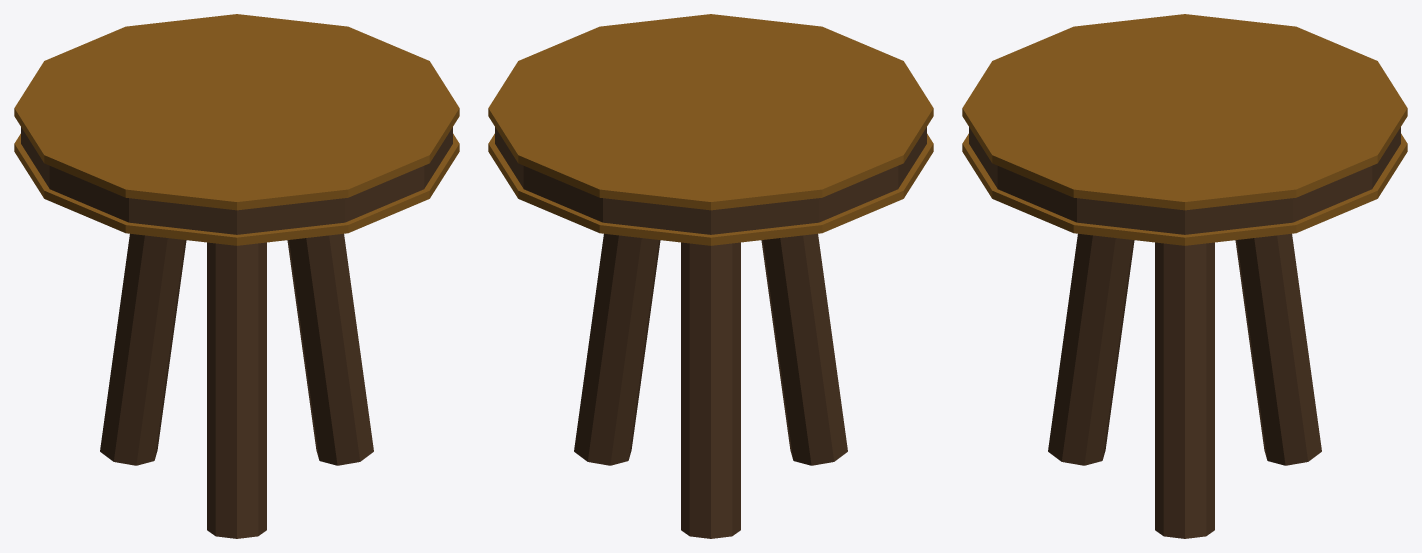
Rendered from Stool.glb.
3 renders of one model, left to right at view 1: azimuth 30°, elevation 25°; view 2: azimuth 150°, elevation 25°; view 3: azimuth 270°, elevation 25°, orthographic.
Parts seen in each view (by area): view 1: Cylinder.001; view 2: Cylinder.001; view 3: Cylinder.001.
Part boxes in pixels (x1,y1,x2,y2): Cylinder.001: [14, 14, 459, 538]; Cylinder.001: [488, 14, 933, 538]; Cylinder.001: [962, 14, 1407, 538].
Bounding box in the file's own units: 0.6732 × 0.6225 × 0.6732.
